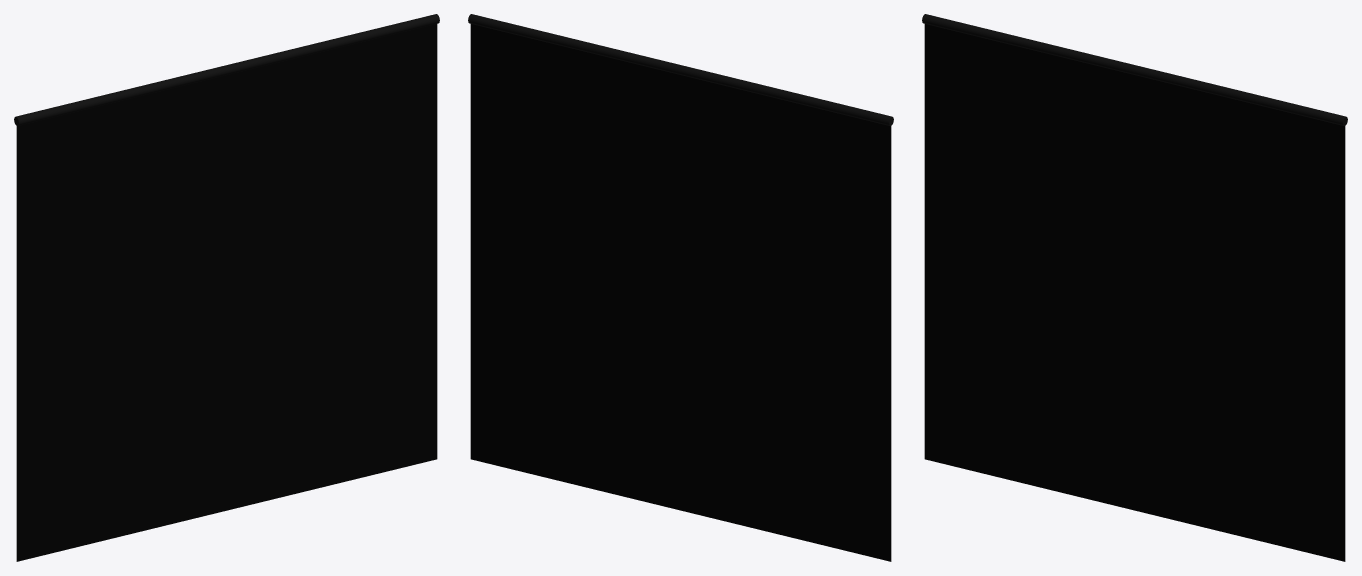
The model's file is scrim.fbx.
3 views of the same model, side by side, from view 1: azimuth 30°, elevation 25°; view 2: azimuth 150°, elevation 25°; view 3: azimuth 330°, elevation 25° (orthographic).
Parts seen in each view (by area): view 1: Plane001, Cylinder001; view 2: Plane001, Cylinder001; view 3: Plane001, Cylinder001.
Boxes of the visible parts, box(x1,y1,x2,y2) form: Plane001: box(16, 24, 437, 561); Cylinder001: box(14, 14, 439, 125); Plane001: box(470, 24, 891, 561); Cylinder001: box(468, 14, 893, 125); Plane001: box(924, 24, 1345, 561); Cylinder001: box(922, 14, 1347, 125).
Bounding box in the file's own units: 1000 × 1010 × 20.
2 materials, 1 textured.
